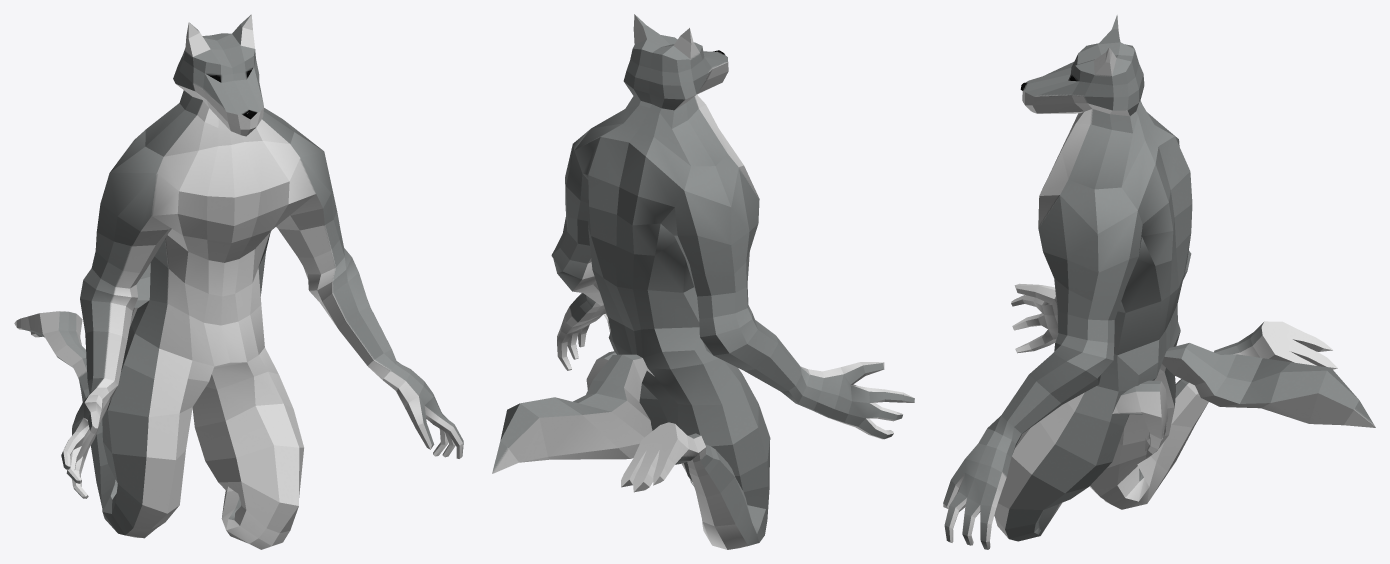
The model's file is WolfDead(36).obj.
3 renders of one model, left to right at view 1: azimuth 30°, elevation 25°; view 2: azimuth 150°, elevation 25°; view 3: azimuth 270°, elevation 25°, orthographic. The views are drawn at different scales.
Parts seen in each view (by area): view 1: Box001; view 2: Box001; view 3: Box001.
Boxes of the visible parts, <box> form: Box001: <box>14,14,463,549</box>; Box001: <box>492,14,914,549</box>; Box001: <box>943,15,1375,549</box>.
Bounding box in the file's own units: 92.07 × 120 × 90.97.
